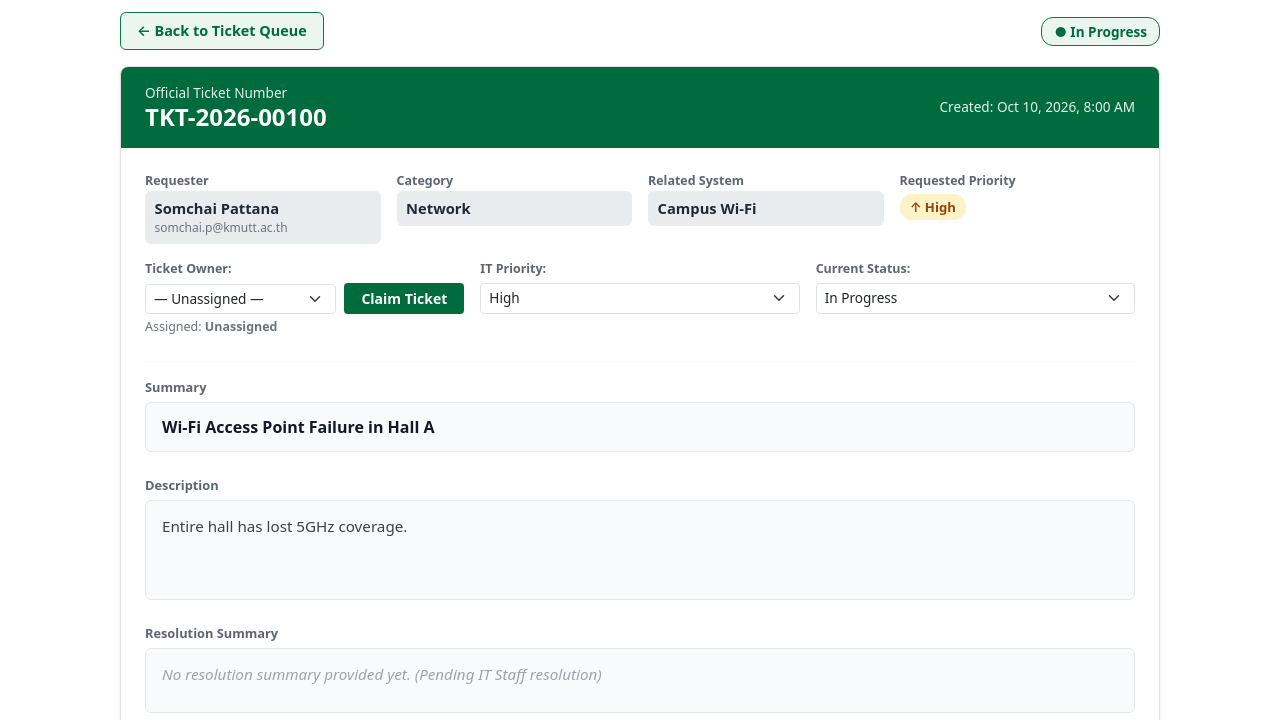
Lab 4 Ticket Workflow & Resolution Gate UI Component Tests (Feature-14) › Resolution Gate UI & Validation › displays owner warning banner when ticket is unassigned
Select "Resolved" in the dropdown labelled "Current Status:": [975, 298] box x1=816 y1=283 x2=1135 y2=314
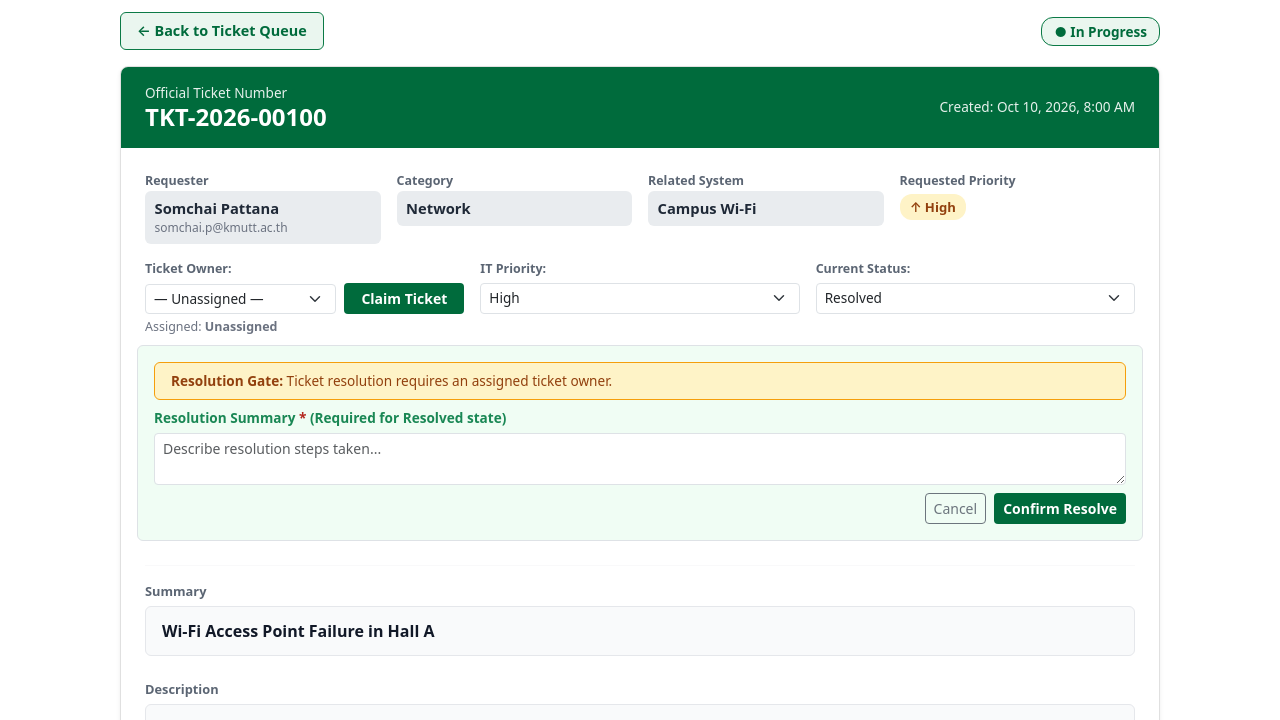
Expected: the message "Resolution Gate: Ticket resolution requires an assigned ticket owner." is shown, x1=154 y1=362 x2=1126 y2=400
Expected: the message with id "resolution-owner-warning" shows "requires an assigned ticket owner", x1=283 y1=371 x2=612 y2=390
